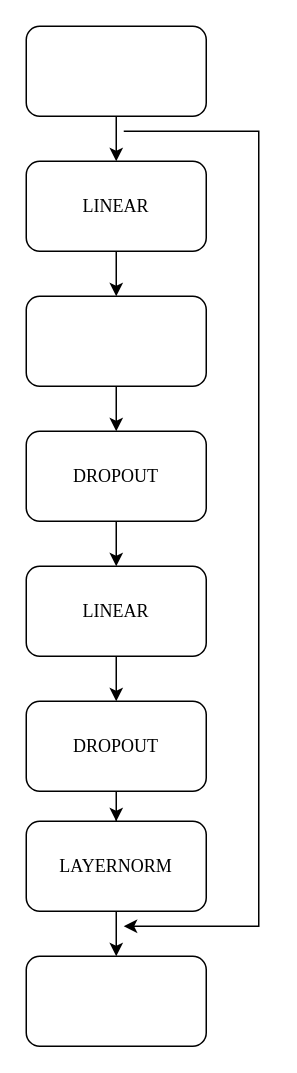
The diagram is 297 pixels wide and 1073 high, and some of its shapes have lost their labels. The shapes that lost their labels are listed below. From the top down, each one's centre as x and y in pixels, then its label:
the point at 115,70: INPUT
the point at 115,340: RELU
the point at 115,1000: OUTPUT
